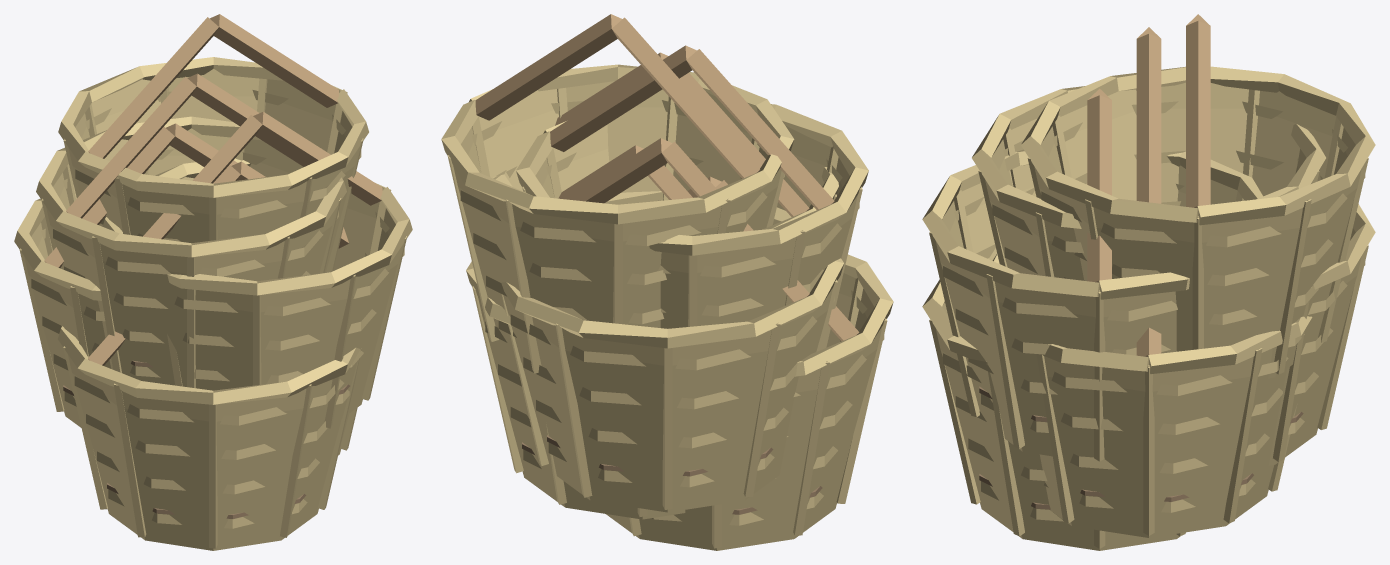
The model's file is item_039_basket_l.glb.
3 renders of one model, left to right at view 1: azimuth 30°, elevation 25°; view 2: azimuth 150°, elevation 25°; view 3: azimuth 270°, elevation 25°, orthographic. The views are drawn at different scales.
Visible parts, largest first — view 1: item_039_basket_l; view 2: item_039_basket_l; view 3: item_039_basket_l.
Part boxes in pixels (bbox=[...]): item_039_basket_l: bbox=[14, 14, 412, 550]; item_039_basket_l: bbox=[441, 14, 893, 550]; item_039_basket_l: bbox=[922, 14, 1375, 550].
Size of the model in its own units: 0.5012 by 0.6815 by 0.552.
